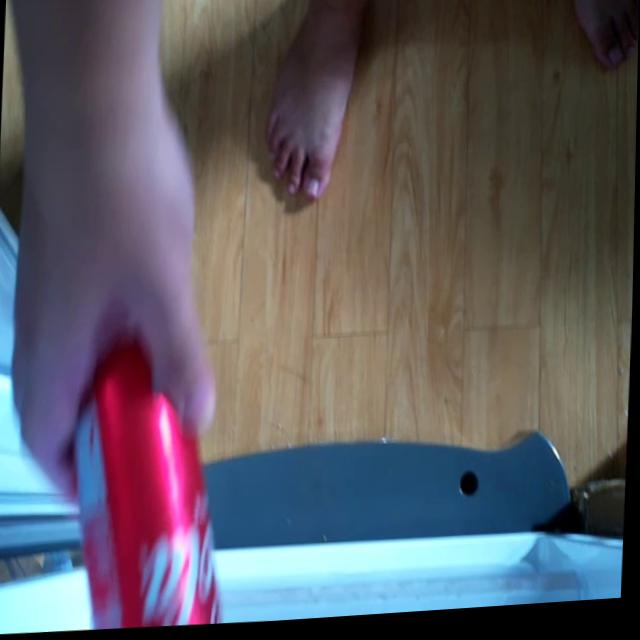coke: (59, 325, 244, 630)
